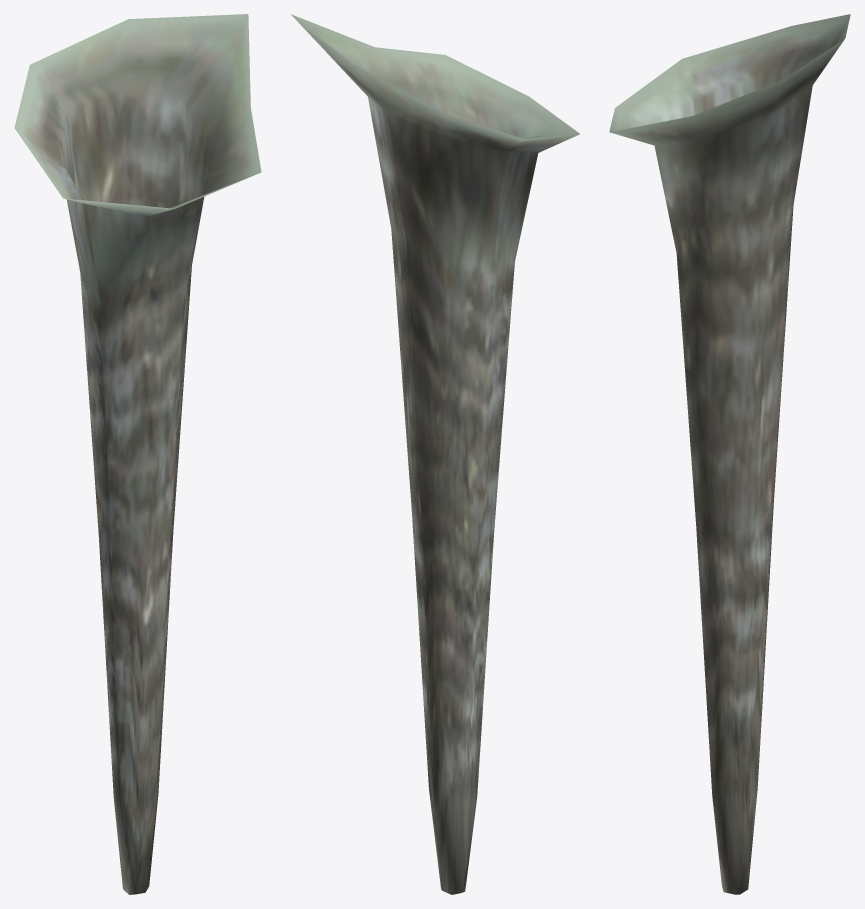
Rendered from TROLLHOLE02_PS-MAINSTALAG31.fbx.
3 views of the same model, side by side, from view 1: azimuth 30°, elevation 25°; view 2: azimuth 150°, elevation 25°; view 3: azimuth 270°, elevation 25° (orthographic). The views are drawn at different scales.
Parts seen in each view (by area): view 1: TROLLHOLE02_PS-MAINSTALAG31; view 2: TROLLHOLE02_PS-MAINSTALAG31; view 3: TROLLHOLE02_PS-MAINSTALAG31.
Boxes of the visible parts, left/top/right/bottom form: TROLLHOLE02_PS-MAINSTALAG31: left=14, top=14, right=261, bottom=894; TROLLHOLE02_PS-MAINSTALAG31: left=291, top=14, right=579, bottom=894; TROLLHOLE02_PS-MAINSTALAG31: left=609, top=14, right=850, bottom=894.
Size of the model in its own units: 10735 by 36710 by 9082.
Materials: 1 (1 with a texture image).
